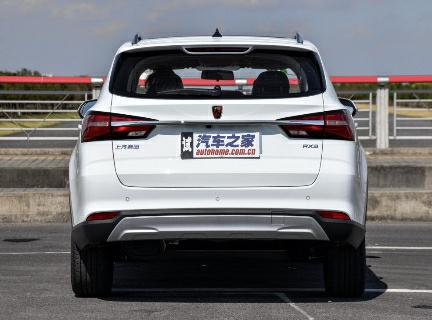荣威-RX3: (67, 28, 375, 308)
